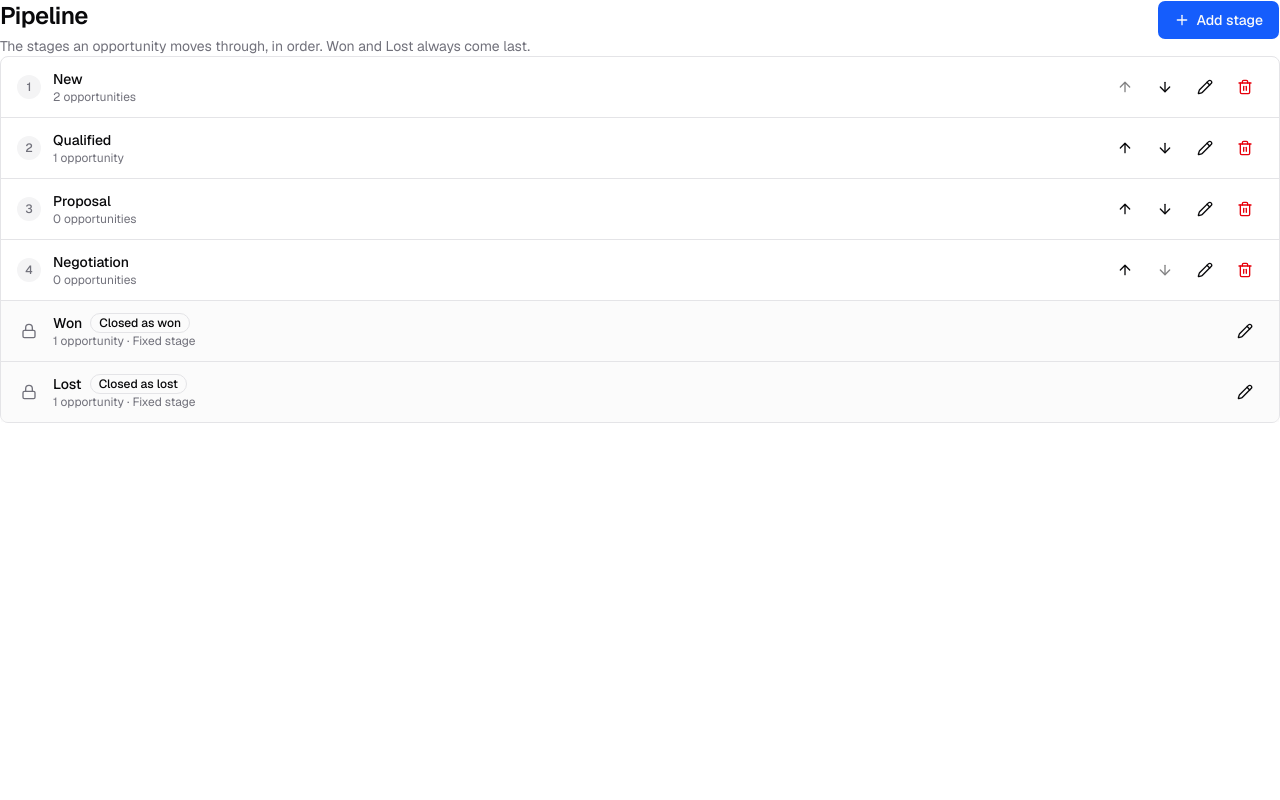
it: PipelineSettingsPage › renames a stage, Won included, and sends nothing when the name is unchanged
Expected: the list named "Pipeline stages" is shown, left=0, top=56, right=1279, bottom=423
Click the button named "Rename Won".
click(1245, 331)  # box left=1227, top=313, right=1263, bottom=349
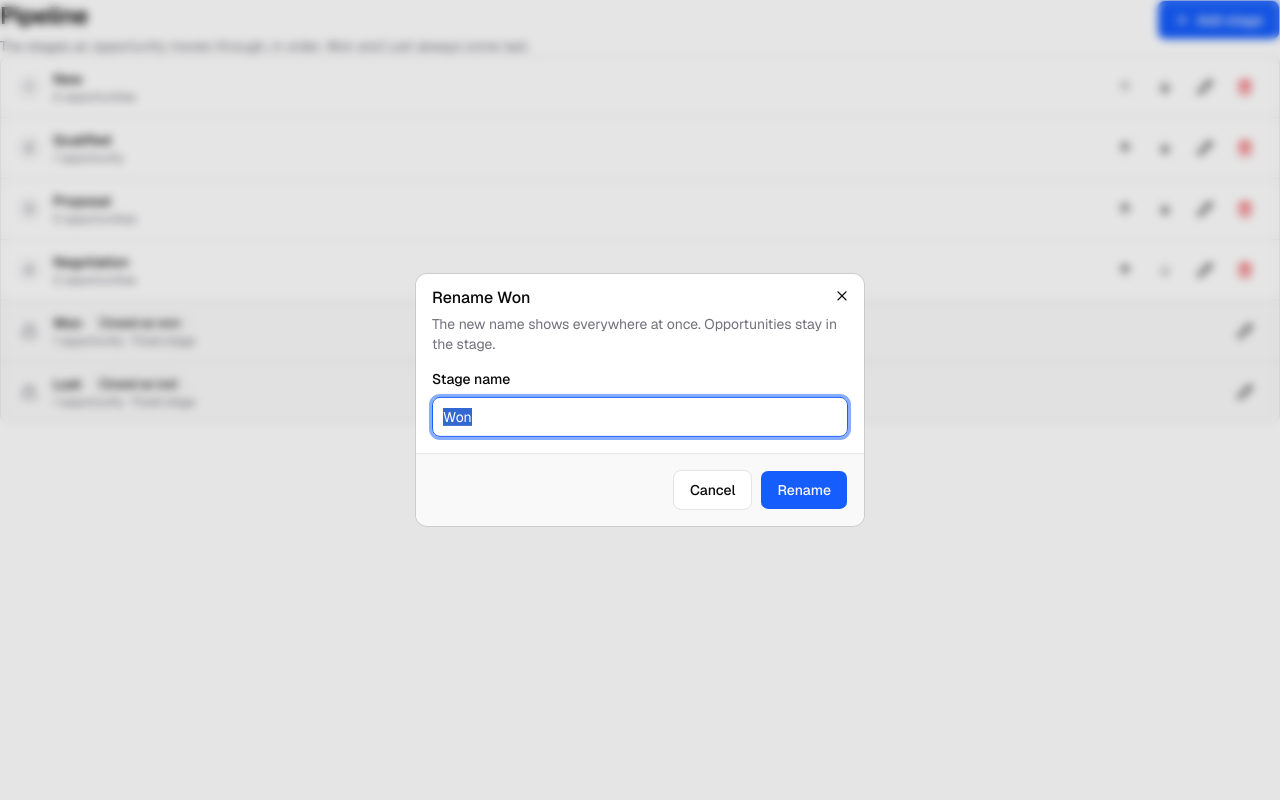
Now the field labelled "Stage name" holds "Won"
Replace the text in the field labelled "Stage name" with "Signed" at (640, 417), box left=432, top=397, right=848, bottom=437
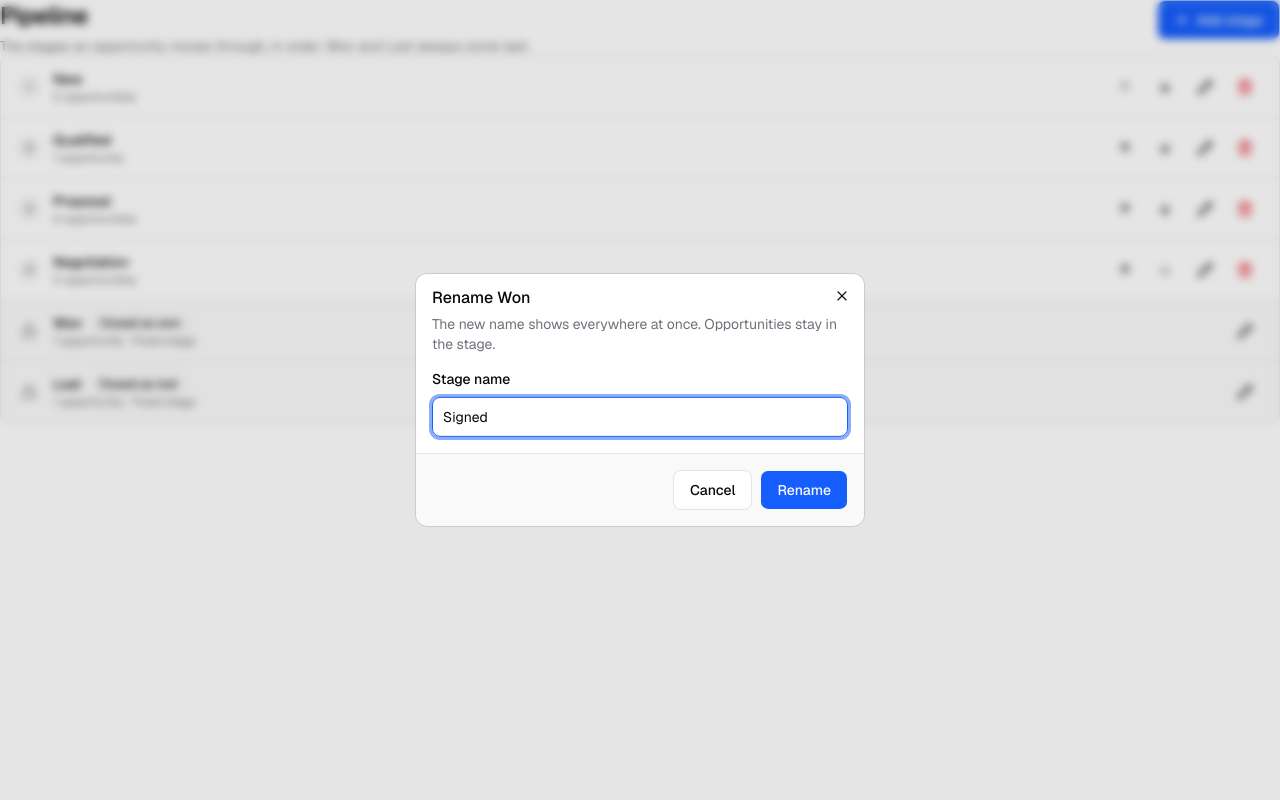
Click the button "Rename".
click(804, 490)  # box left=760, top=470, right=848, bottom=510
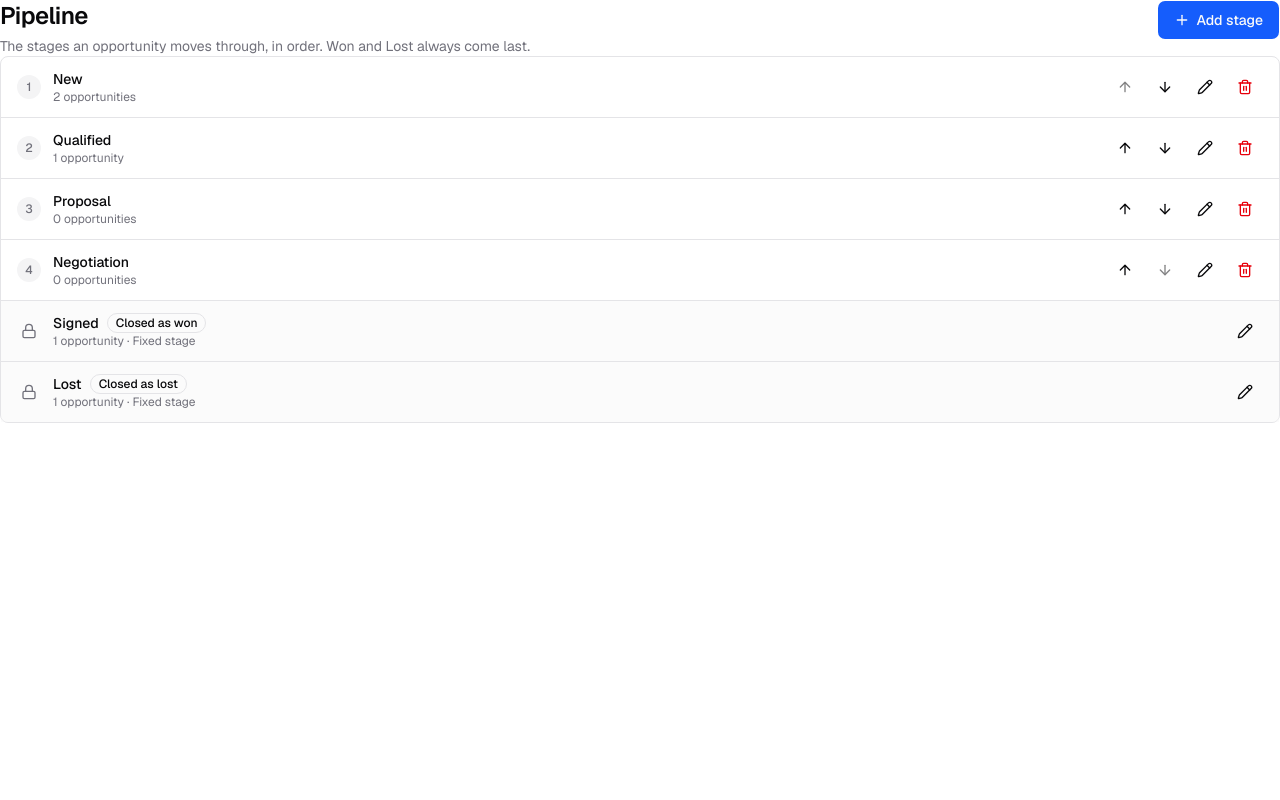
Click the button named "Rename New".
click(1205, 87)  # box left=1187, top=69, right=1223, bottom=105
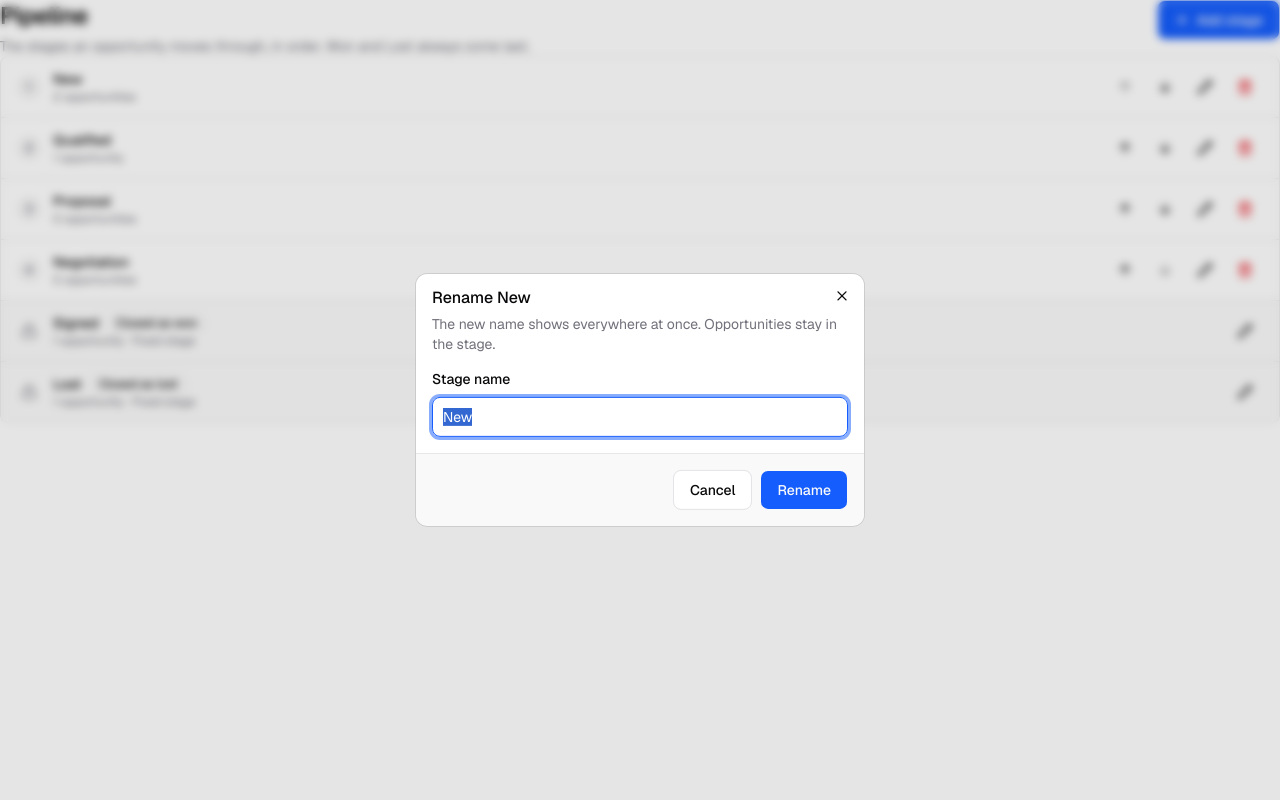
Click the button "Rename".
click(804, 490)  # box left=760, top=470, right=848, bottom=510
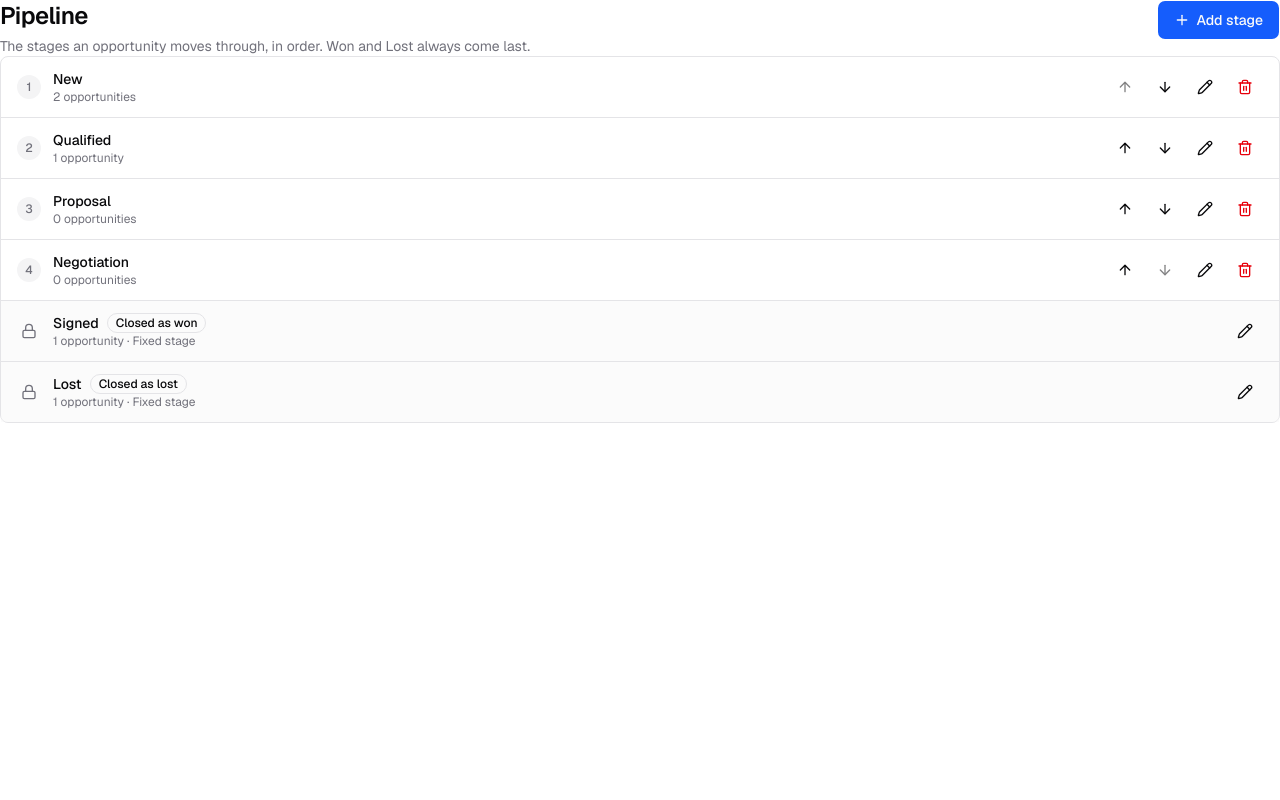
Now the dialog is gone
